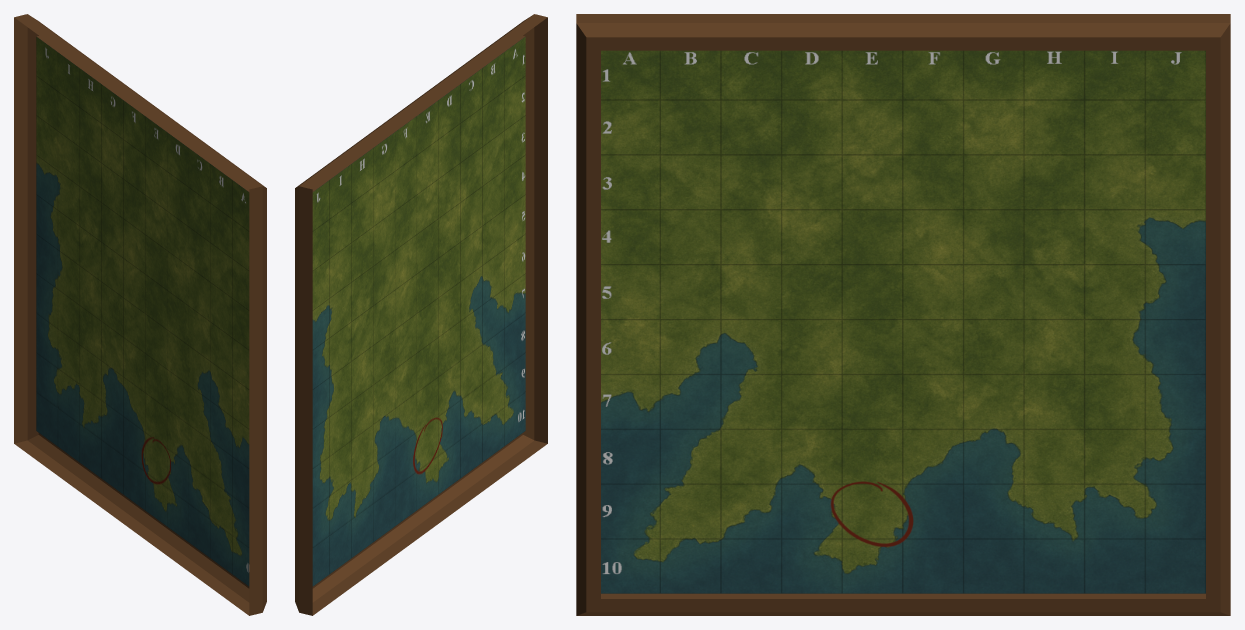
File: F_Map_01.fbx
The picture shows the model from 3 angles, left to right: view 1: azimuth 30°, elevation 25°; view 2: azimuth 150°, elevation 25°; view 3: azimuth 270°, elevation 25°; orthographic projection. The views are drawn at different scales.
Visible parts, largest first — view 1: F_Map_01; view 2: F_Map_01; view 3: F_Map_01.
Boxes of the visible parts, x1,y1,x2,y2 form: F_Map_01: (14,14,266,615); F_Map_01: (295,14,547,615); F_Map_01: (576,14,1230,615).
Bounding box in the file's own units: 10.37 × 200 × 200.
Materials: 1 (1 with a texture image).
